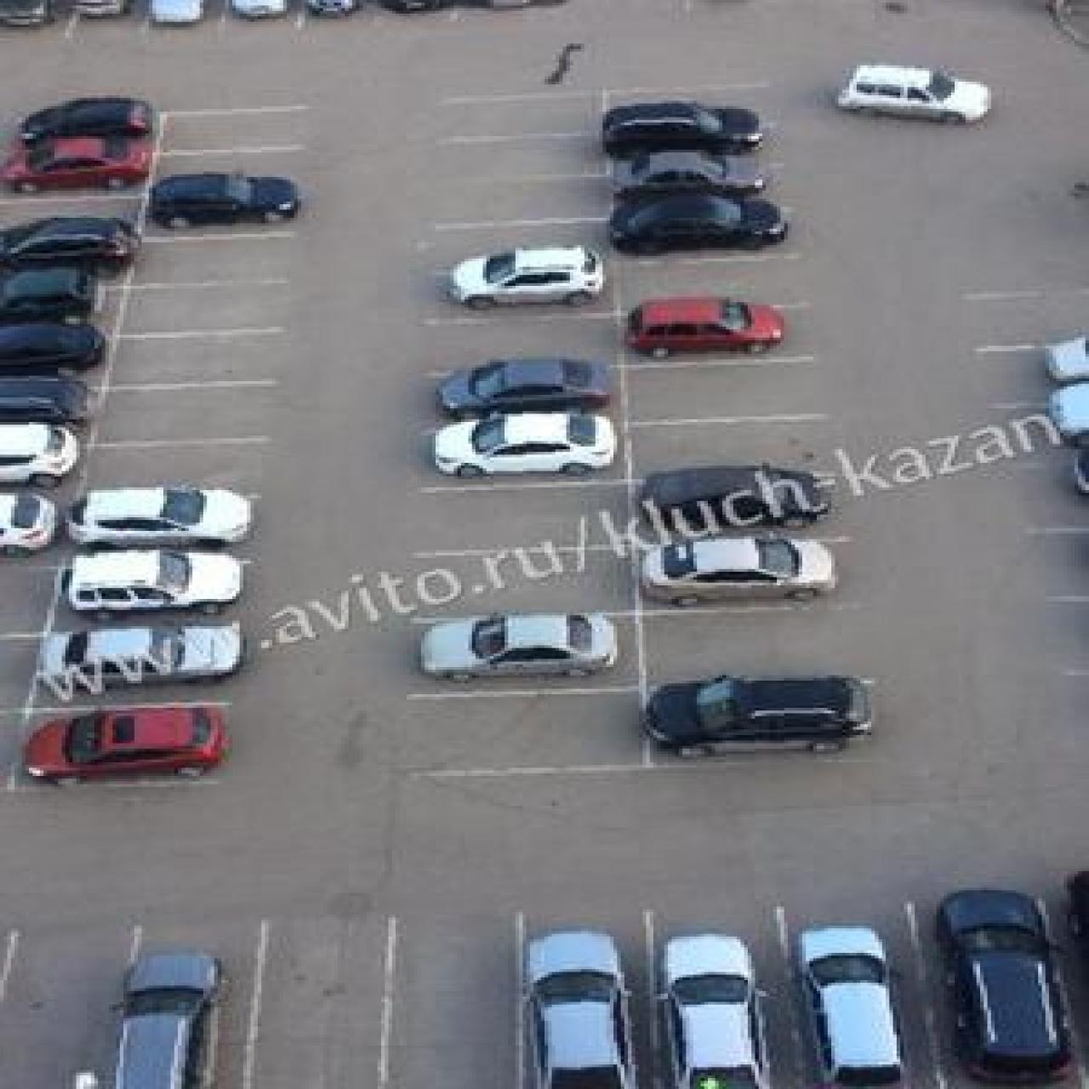cars: (927, 892, 1080, 1089), (653, 914, 809, 1085), (791, 900, 936, 1079), (101, 920, 250, 1089), (521, 916, 655, 1082), (412, 611, 651, 690), (646, 681, 882, 760), (40, 621, 236, 705), (31, 704, 220, 788), (430, 414, 644, 482), (637, 535, 859, 600), (51, 551, 247, 619), (637, 472, 833, 538), (418, 365, 624, 419), (624, 301, 802, 361), (69, 498, 261, 553), (436, 254, 606, 309), (143, 176, 307, 230), (615, 199, 783, 251), (614, 113, 770, 165), (0, 139, 134, 196), (603, 161, 773, 202), (991, 335, 1089, 405), (4, 93, 149, 139), (0, 222, 123, 268), (0, 318, 101, 373), (0, 270, 101, 324), (1013, 384, 1089, 455), (0, 369, 94, 418), (0, 421, 76, 475), (0, 486, 54, 551)
empty: (381, 921, 523, 1085), (258, 923, 381, 1089), (405, 693, 641, 777), (0, 937, 109, 1089), (637, 606, 862, 676), (408, 549, 630, 611), (418, 489, 628, 549), (633, 415, 826, 478), (432, 306, 624, 366), (85, 432, 281, 489), (113, 329, 283, 389), (621, 359, 817, 411), (619, 249, 804, 304), (100, 382, 285, 437), (118, 277, 285, 334), (434, 218, 615, 270), (136, 139, 311, 185), (136, 234, 299, 281), (443, 135, 599, 184), (980, 285, 1089, 350), (163, 102, 316, 143), (439, 181, 603, 219), (452, 93, 604, 134), (0, 185, 134, 226), (614, 79, 755, 117)
